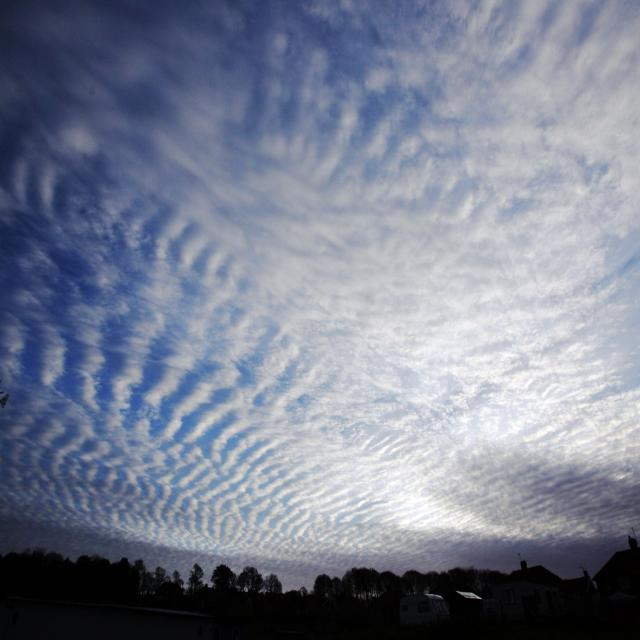altocumulus: (0, 0, 640, 531)
